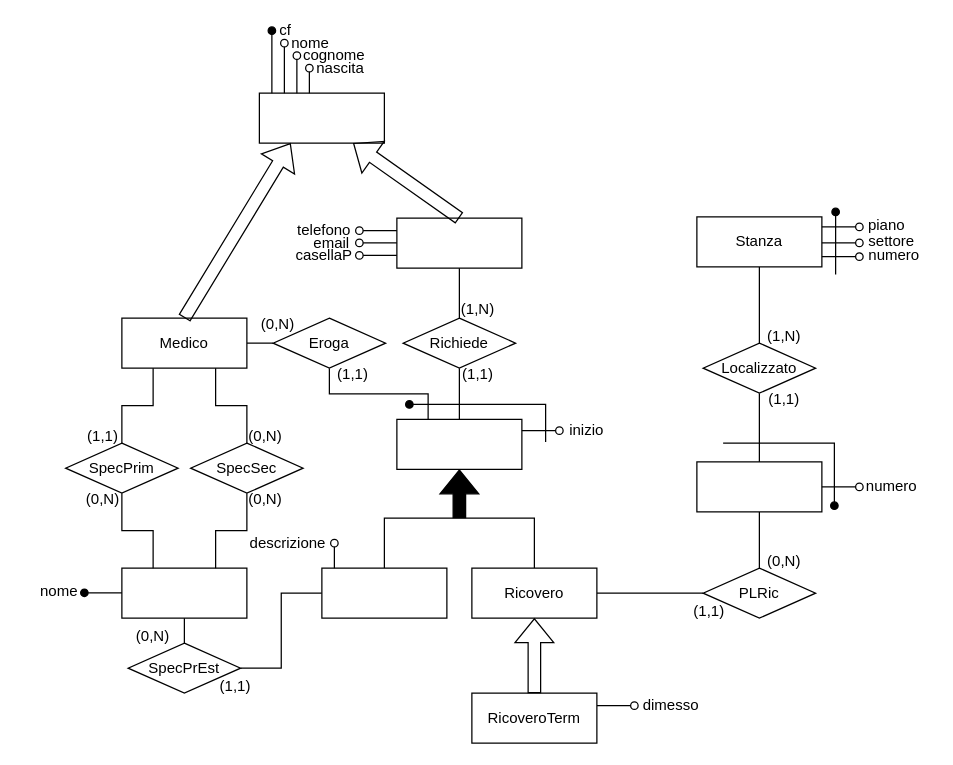
The diagram is 953 pixels wide and 765 high, and some of its shapes have lost their labels. Each missing label, with the centre of its shape:
"Paziente" belongs at point (459, 242).
"Persona" belongs at point (321, 117).
"PostoLetto" belongs at point (759, 486).
"Prestazione" belongs at point (459, 443).
"PrestazioneEst" belongs at point (384, 592).
"Specializzazione" belongs at point (184, 592).
